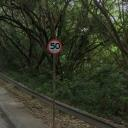speed_limit_50: (47, 40, 62, 54)
